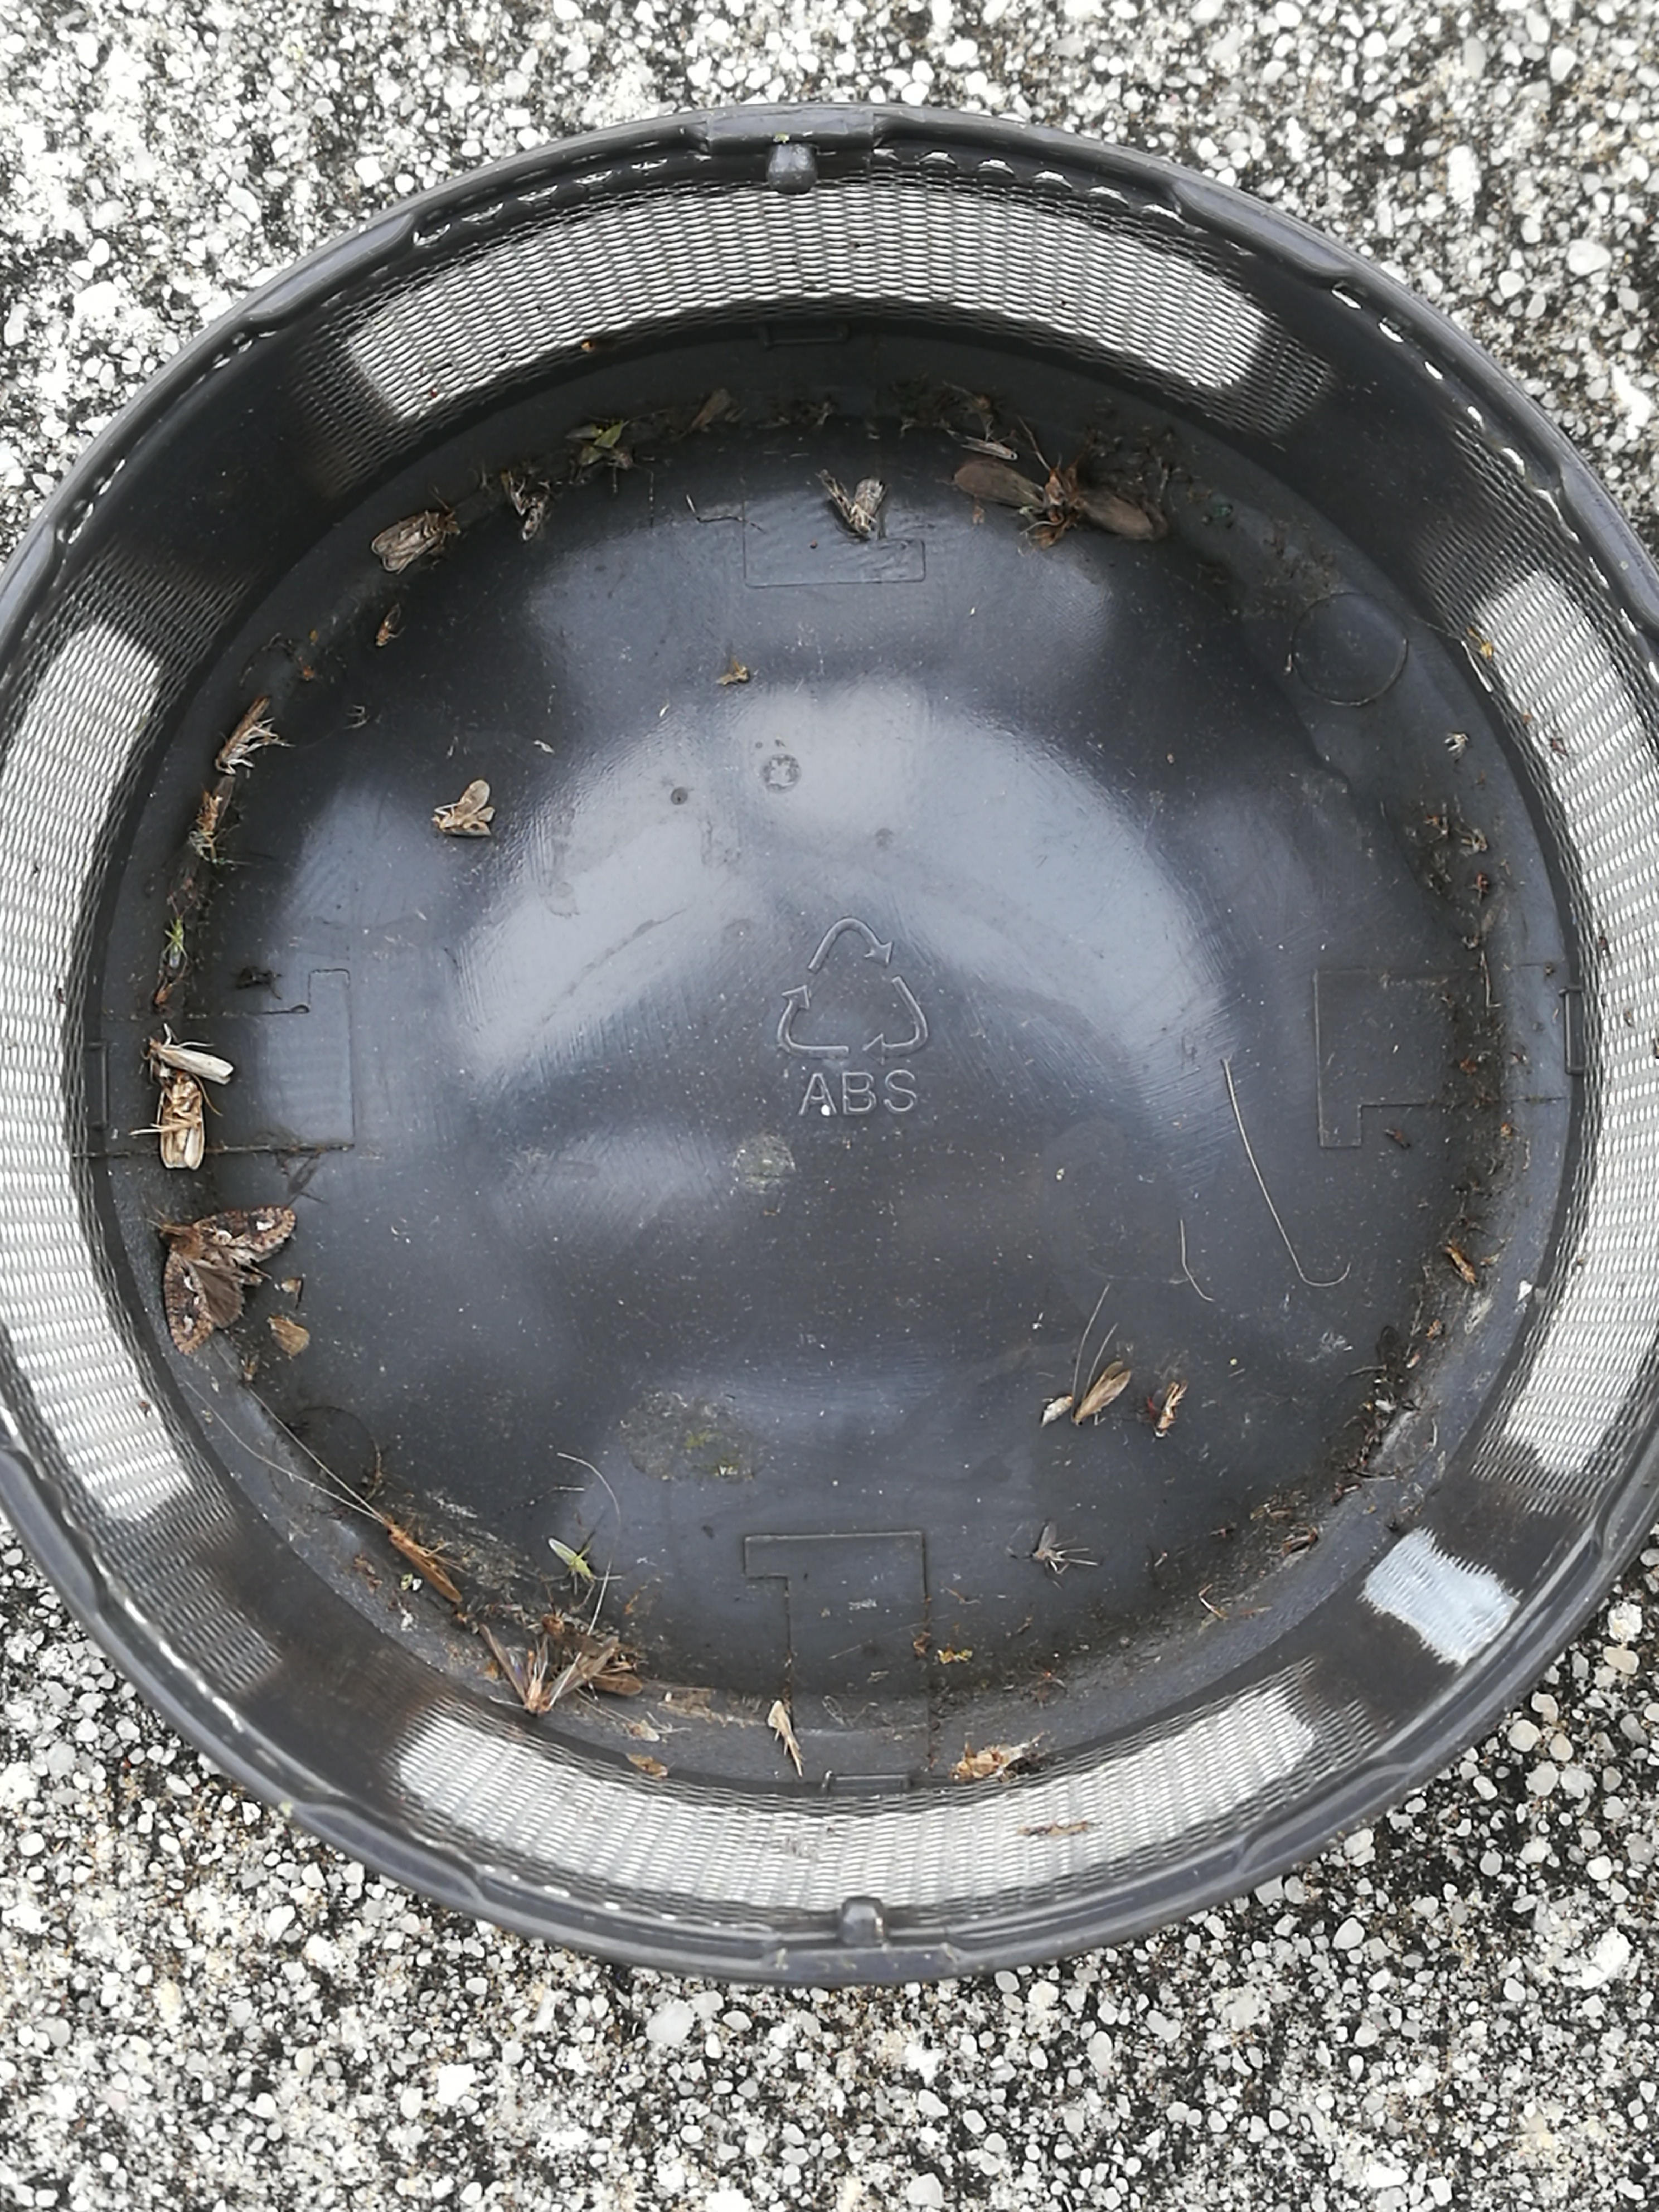mosquito: (389, 1522, 464, 1606), (146, 1040, 234, 1085), (1073, 1359, 1131, 1426), (220, 695, 270, 772), (559, 1665, 640, 1693), (946, 432, 1016, 458), (1155, 1381, 1183, 1437)
moth: (166, 1209, 295, 1352), (955, 460, 1168, 536), (481, 1627, 615, 1712), (159, 1071, 204, 1170), (373, 512, 448, 570), (823, 477, 885, 531), (441, 780, 495, 834)
